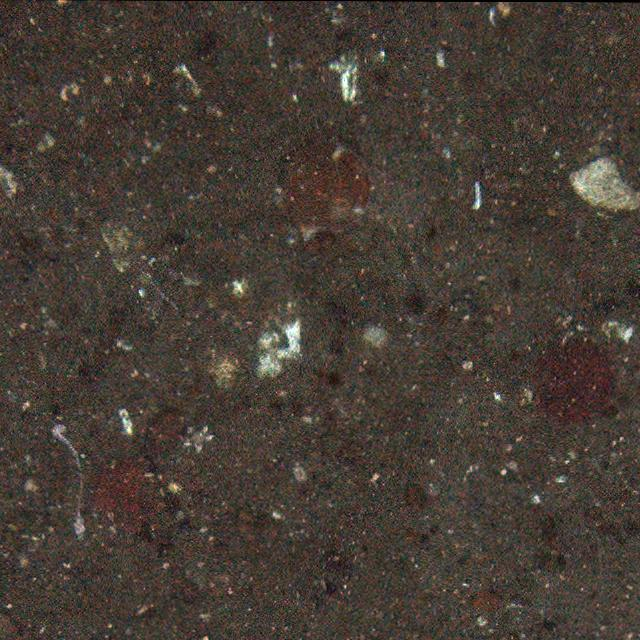scallop: (277, 132, 375, 236)
